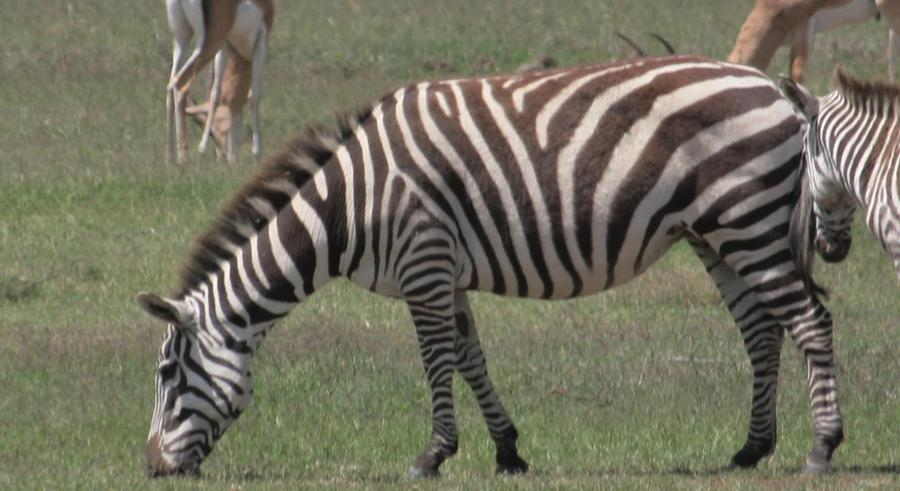zebra_plains: (311, 34, 827, 300)
